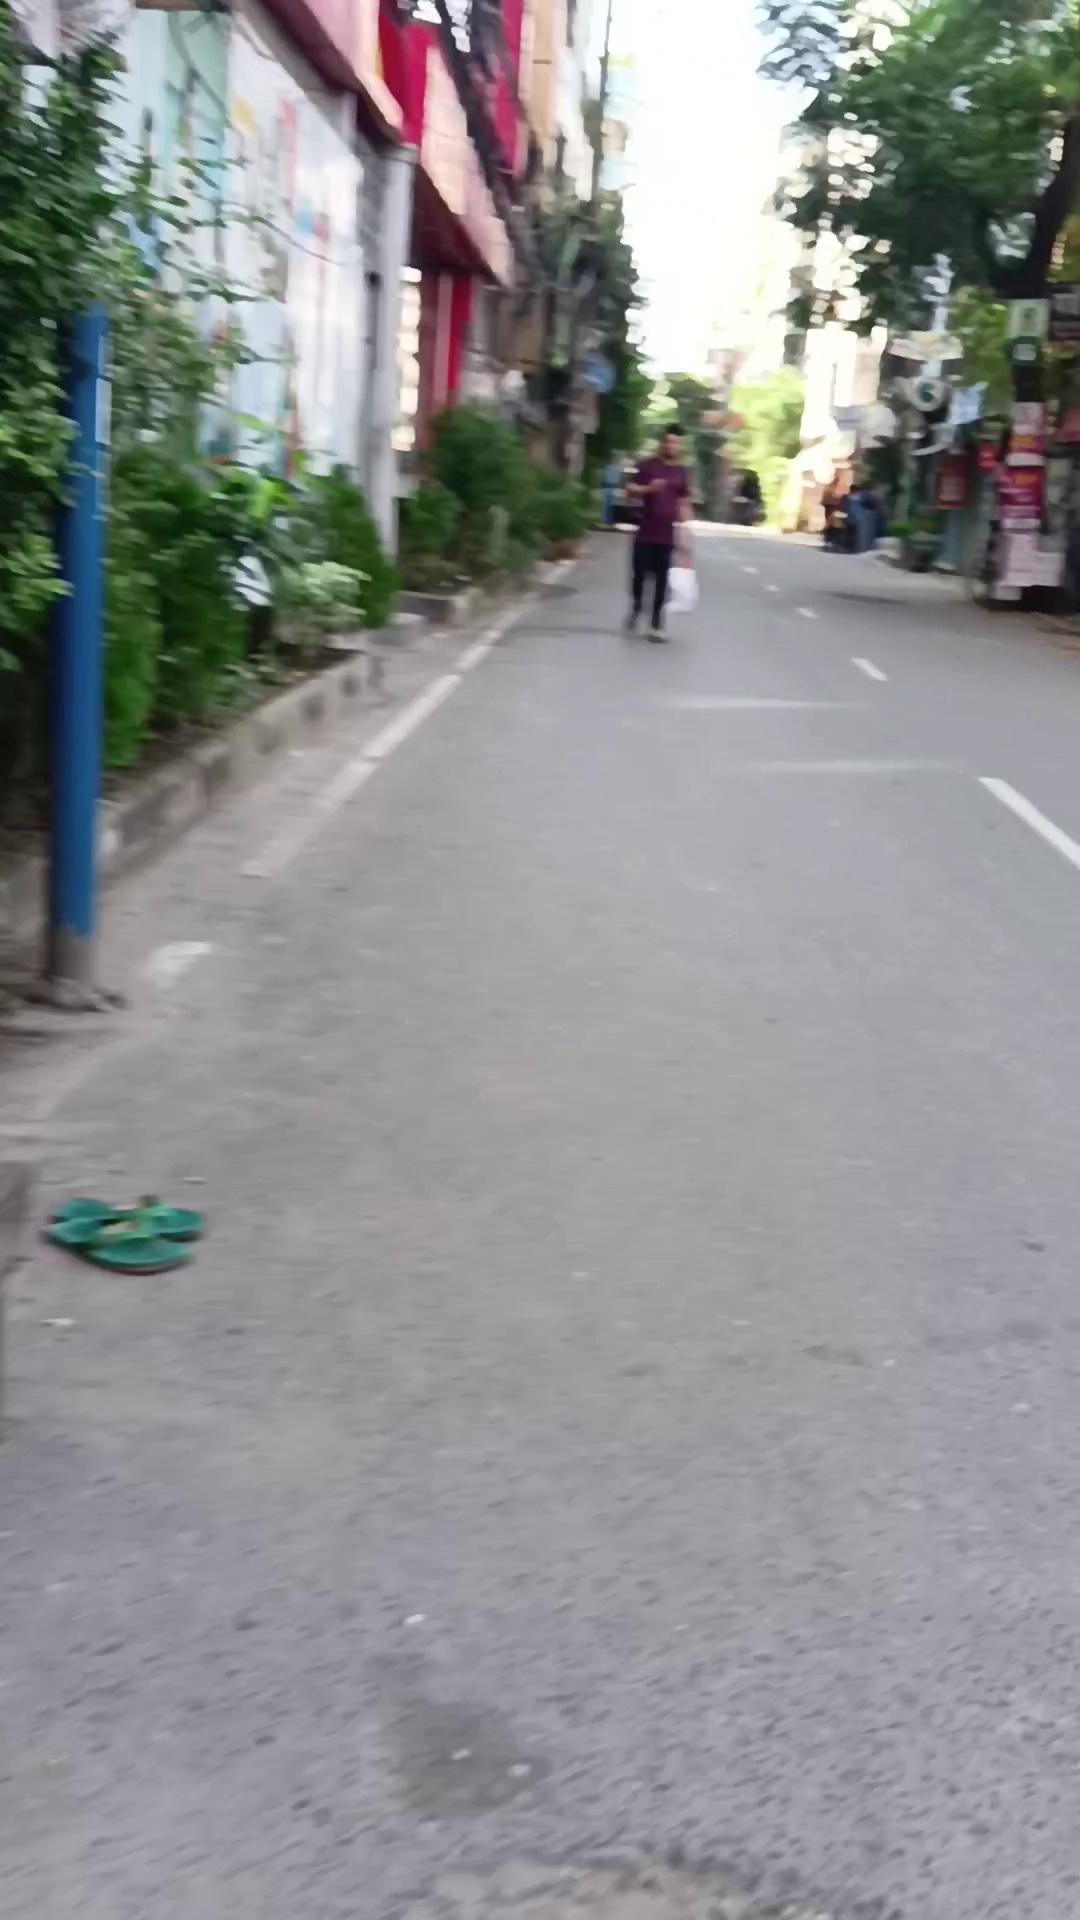Broken-road: (92, 644, 371, 886)
Cat: (833, 491, 880, 553)
Curb: (621, 422, 694, 644)
Dog: (44, 294, 109, 990)
Fallen-tree: (394, 477, 473, 626), (268, 556, 371, 669), (531, 465, 597, 560)
Light-pole: (754, 1, 1077, 609)
